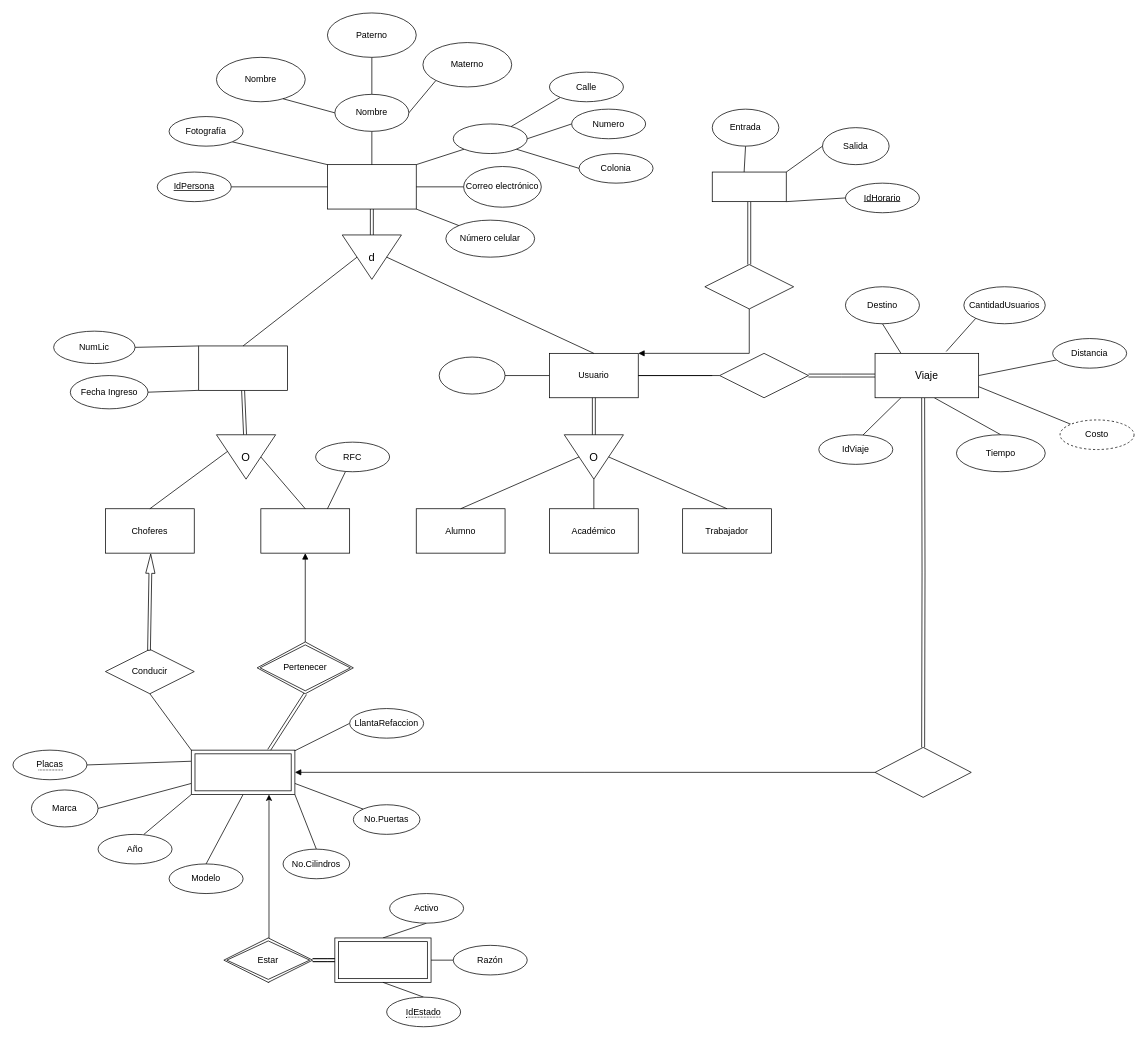
The diagram is 1147 pixels wide and 1040 high, and some of its shapes have lost their labels. Each missing label, with the centre of its shape:
Asociado: point (242, 367)
Direccion: point (490, 138)
Dueños: point (305, 530)
Estado: point (382, 959)
Horario: point (749, 186)
Institución: point (471, 375)
Persona: point (371, 186)
Realizar: point (922, 772)
Taxi: point (243, 772)
Tener: point (749, 286)
Tomar: point (763, 375)
